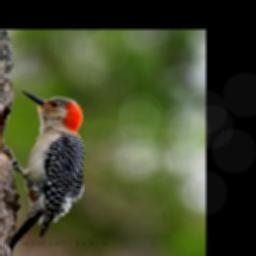Woodpecker: (4, 84, 94, 256)
